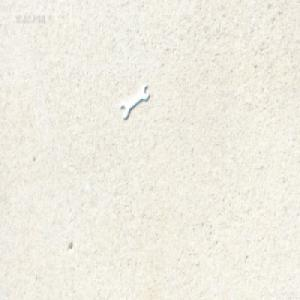Wrench: (119, 83, 150, 118)
